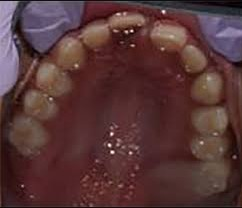UL1BC_healthy: (194, 105, 228, 134)
UL2BC_healthy: (194, 133, 231, 162)
ULCI_healthy: (151, 19, 187, 53)
ULC_healthy: (191, 74, 225, 103)
ULLI_healthy: (182, 47, 208, 74)
UR1BC_healthy: (38, 63, 75, 97)
UR1M_healthy: (10, 117, 51, 153)
UR2BC_healthy: (26, 90, 60, 120)
URCI_decay: (111, 11, 146, 36)
URC_healthy: (57, 38, 88, 70)
URLI_decay: (81, 24, 110, 46)
